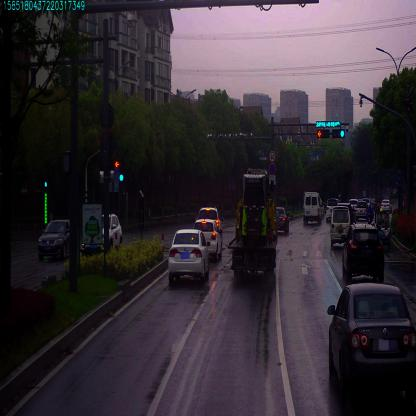traffic-light: (316, 120, 341, 127), (332, 127, 344, 139), (316, 131, 329, 136)
